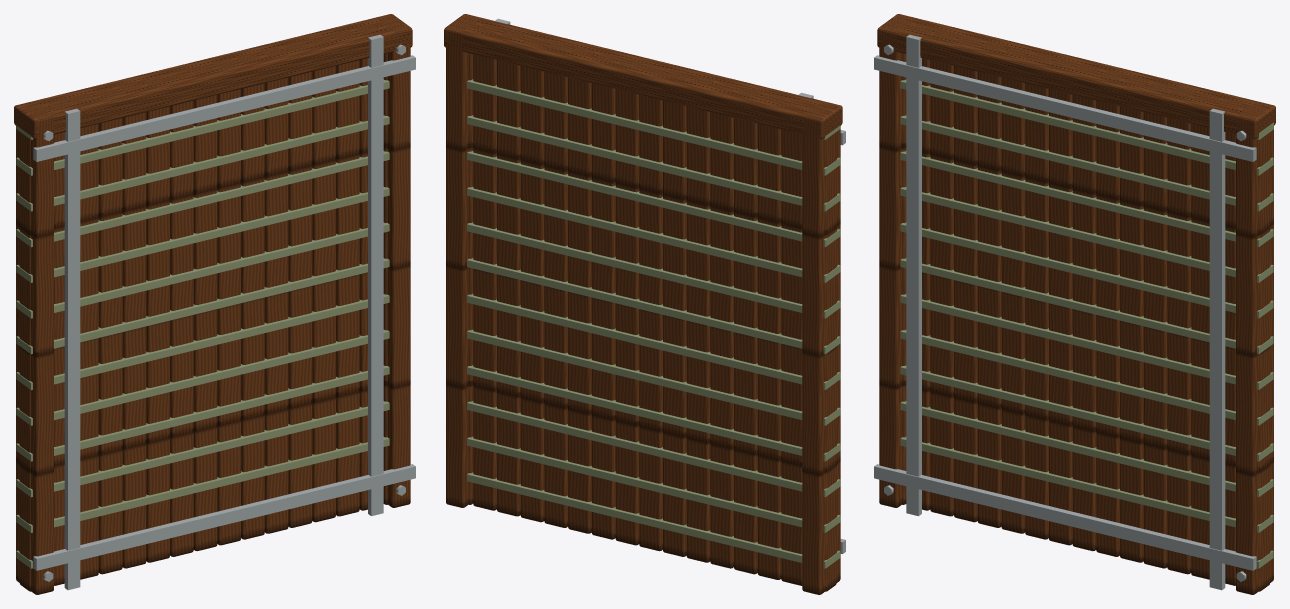
File: modular-survival-base-builder-wall-wattle-panel-reinfo-f7f91014__24300.glb
3 views of the same model, side by side, from view 1: azimuth 30°, elevation 25°; view 2: azimuth 150°, elevation 25°; view 3: azimuth 330°, elevation 25° (orthographic).
Parts seen in each view (by area): view 1: wall-wattle-panel-reinforced; view 2: wall-wattle-panel-reinforced; view 3: wall-wattle-panel-reinforced.
Boxes of the visible parts, x1,y1,x2,y2 form: wall-wattle-panel-reinforced: [14, 14, 415, 594]; wall-wattle-panel-reinforced: [444, 14, 845, 594]; wall-wattle-panel-reinforced: [874, 14, 1275, 594].
Bounding box in the file's own units: 2 × 2.4 × 0.2166.
Materials: 3 (1 with a texture image).
